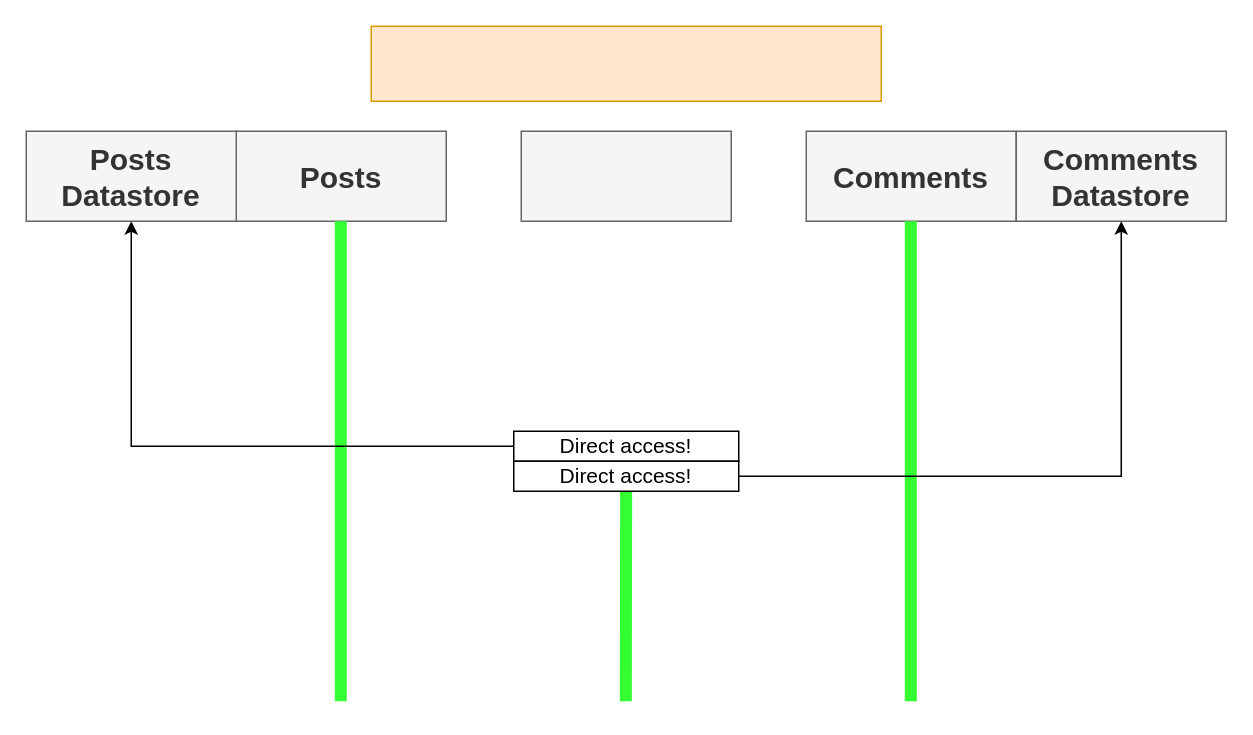
Image size: 1253x735. Some labels were removed from this diagram. Here are the shapes that lost their labels. From the top down, the box of each, then its label:
(370, 25, 881, 101): Option #2 - Direct DB Access
(520, 130, 731, 221): Query
